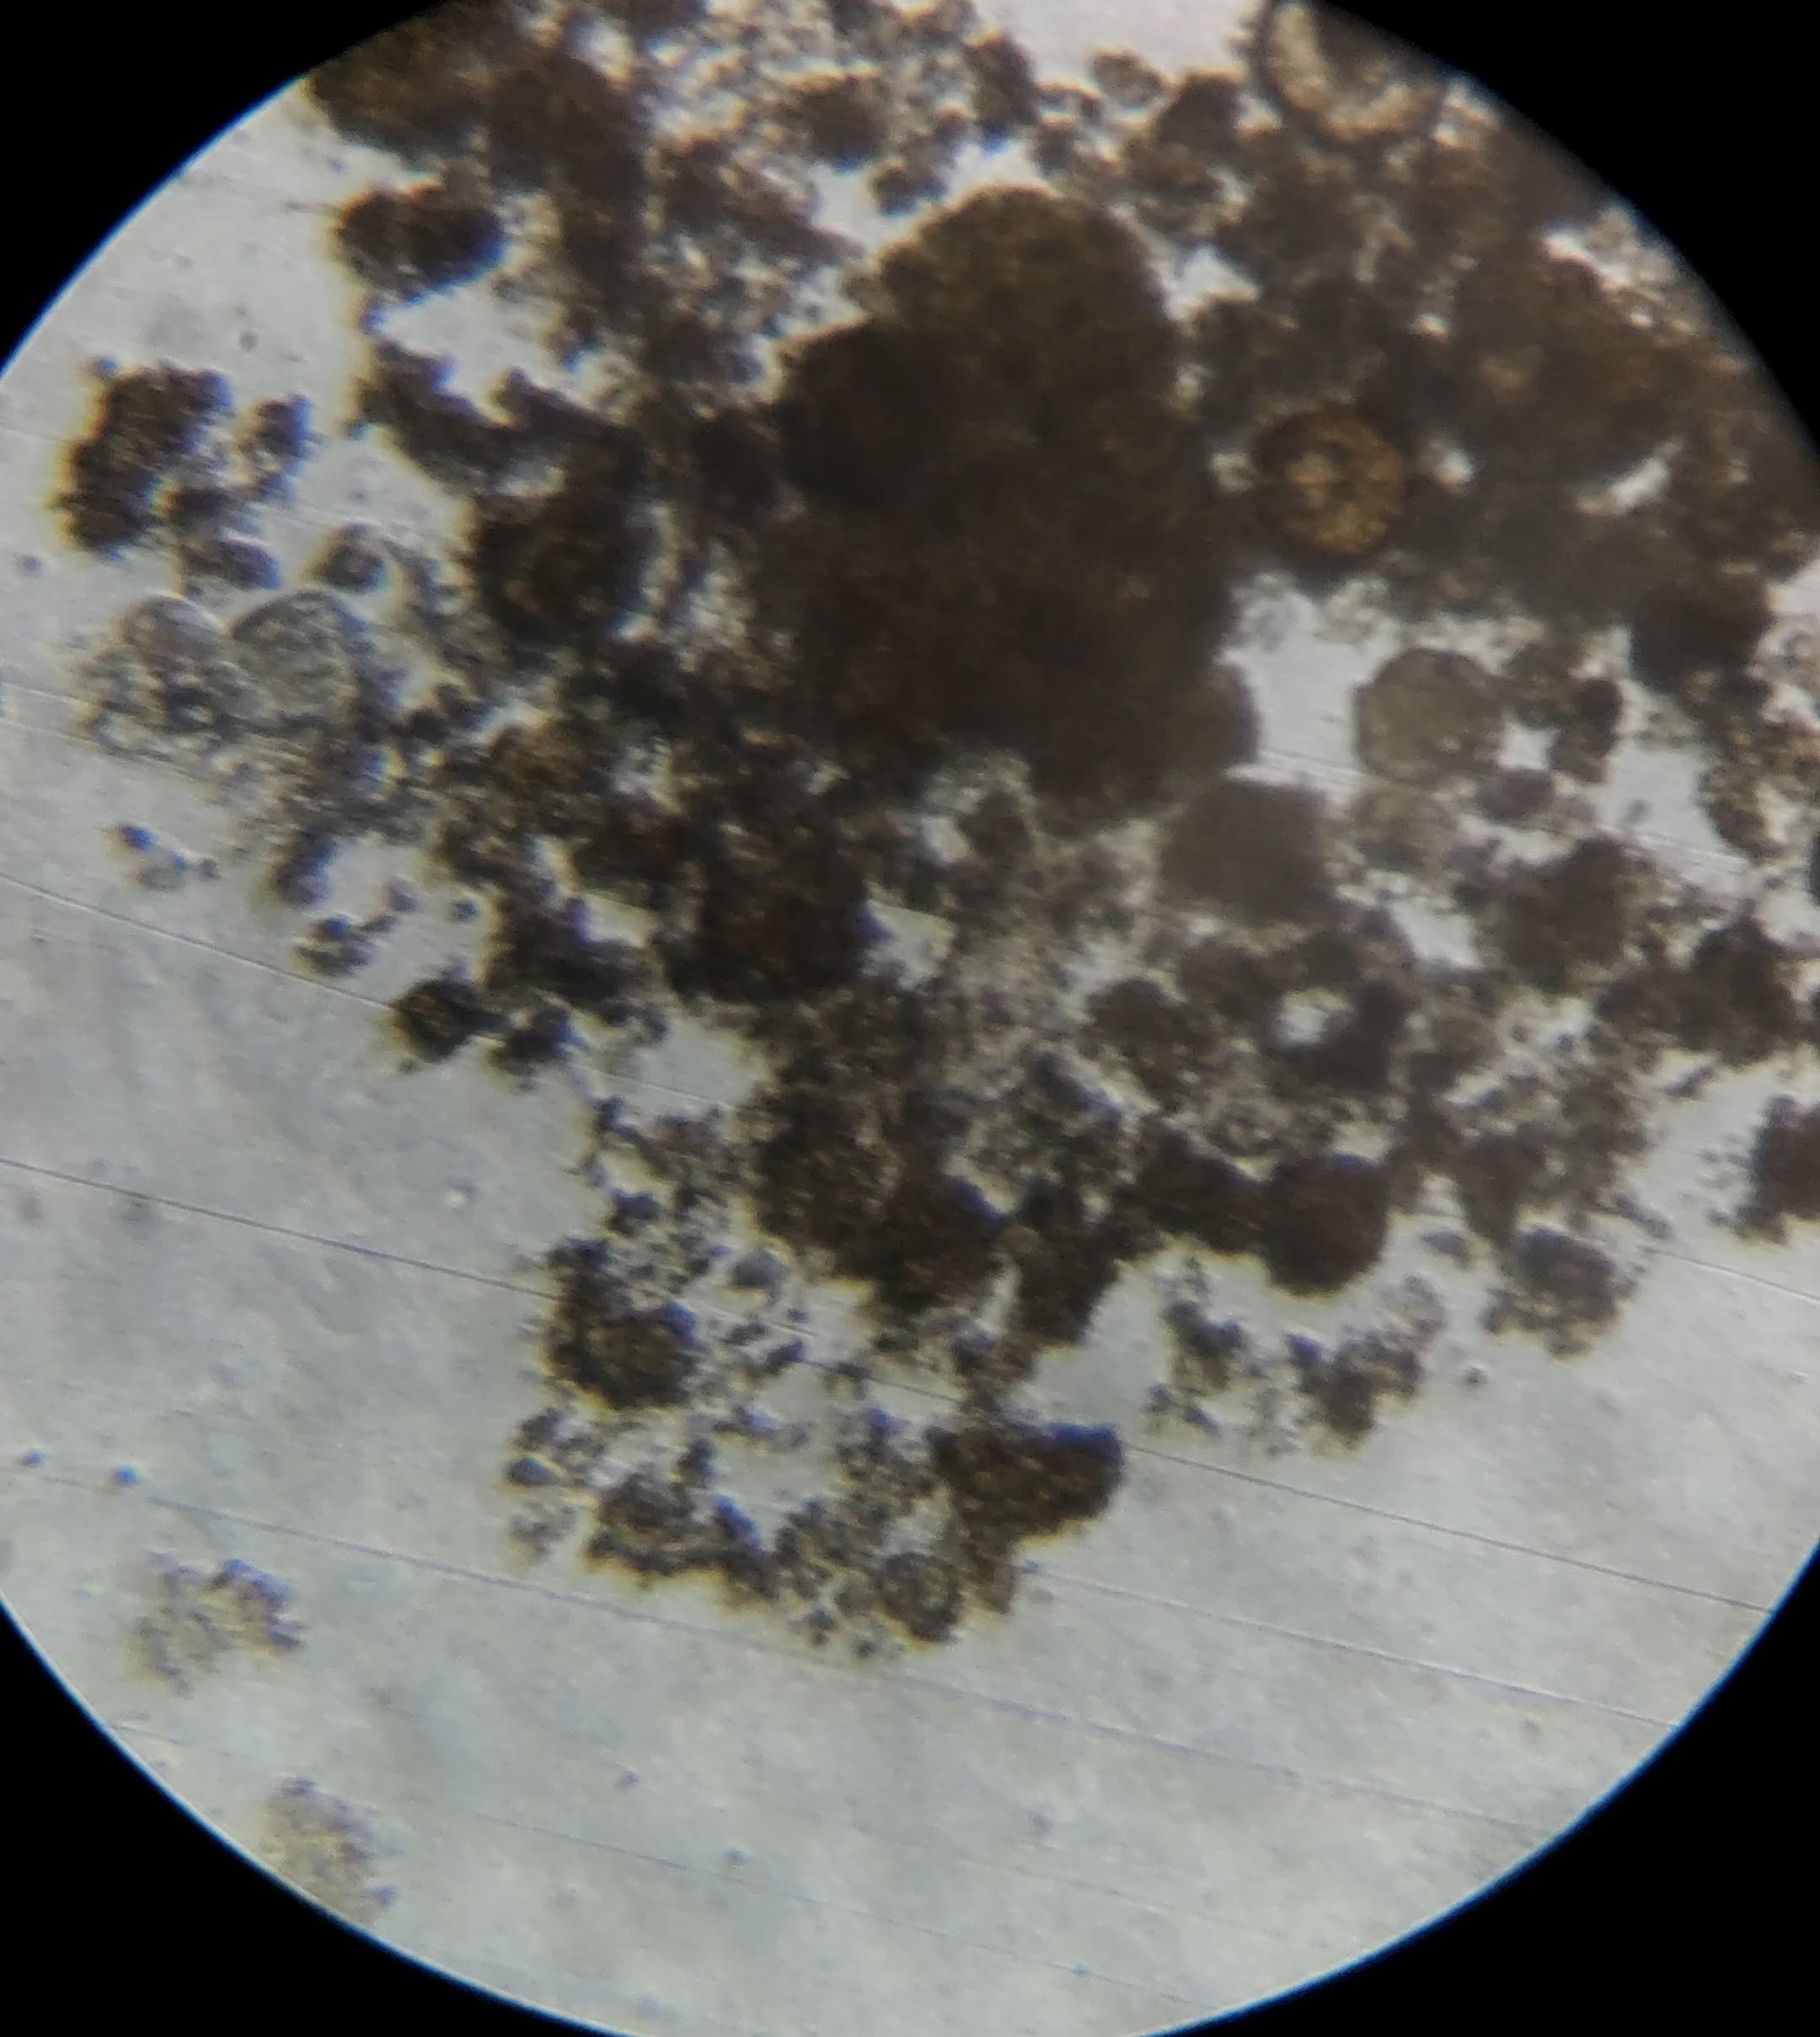Arcella: (1258, 0, 1442, 153), (1254, 411, 1409, 569), (1356, 649, 1504, 784)
Mo: (151, 592, 497, 728)
